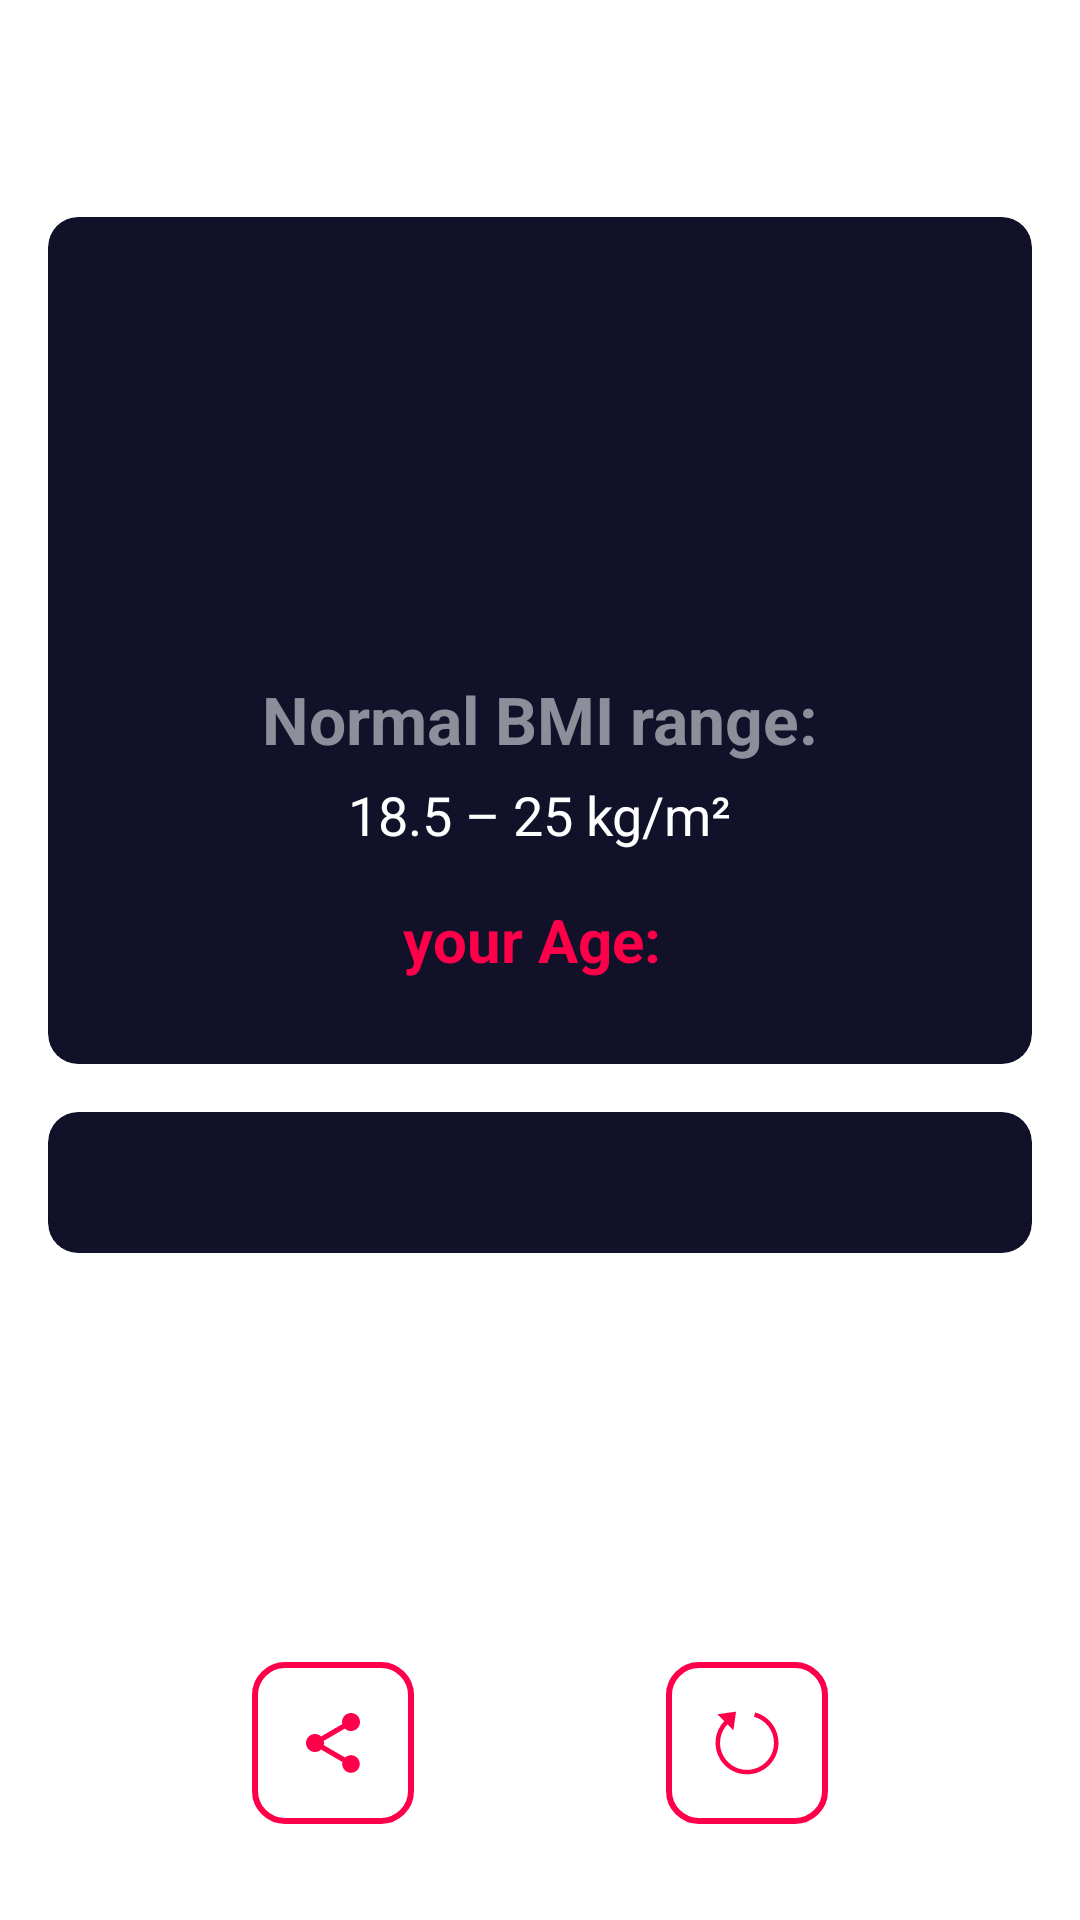

Named icons in this screenshot (1080w x 1920h) and their centers, (x,y):
Recalculate your BMI: (747,1743)
share your Result: (333,1743)
